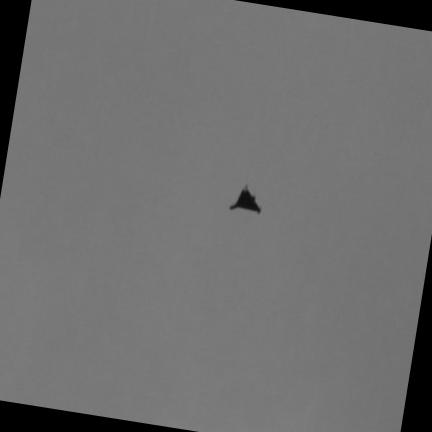Shahed: (229, 186, 261, 214)
